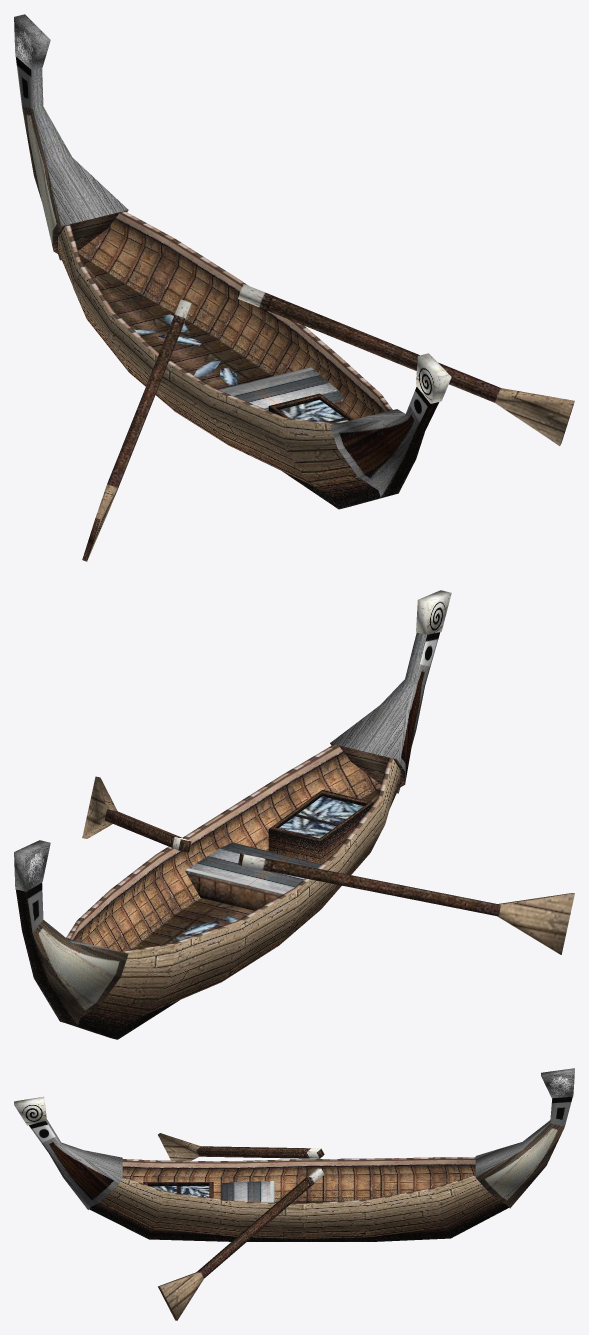
Rendered from boat-rowboat.glb.
The picture shows the model from 3 angles, top to bottom: view 1: azimuth 30°, elevation 25°; view 2: azimuth 150°, elevation 25°; view 3: azimuth 270°, elevation 25°; orthographic projection. The views are drawn at different scales.
Visible parts, largest first — view 1: rowingboat_static; view 2: rowingboat_static; view 3: rowingboat_static.
Part boxes in pixels (left/top/right/bottom): rowingboat_static: left=14, top=14, right=574, bottom=561; rowingboat_static: left=14, top=590, right=574, bottom=1039; rowingboat_static: left=14, top=1068, right=574, bottom=1320.
Size of the model in its own units: 5.97 by 3.17 by 9.21.
Materials: 1 (1 with a texture image).
